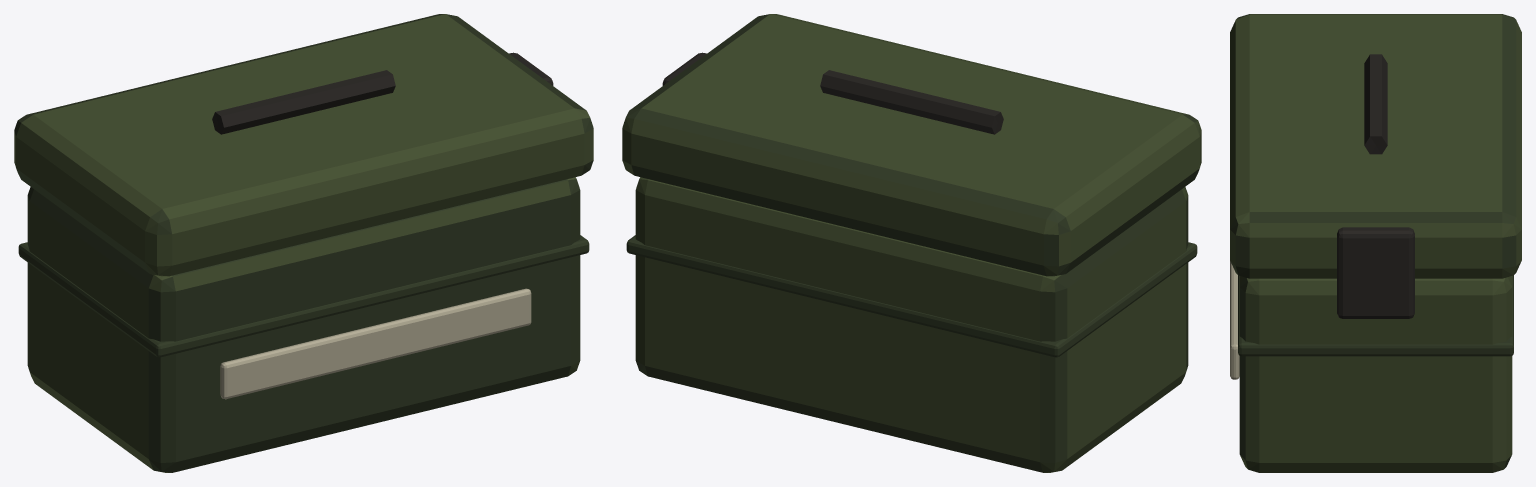
The model's file is ammo-box.glb.
3 renders of one model, left to right at view 1: azimuth 30°, elevation 25°; view 2: azimuth 150°, elevation 25°; view 3: azimuth 270°, elevation 25°, orthographic.
Parts seen in each view (by area): view 1: ammo-box, ammo-box-lid; view 2: ammo-box, ammo-box-lid; view 3: ammo-box-lid, ammo-box.
Part boxes in pixels (box(x1,y1,x2,y2)): ammo-box: box(18, 177, 589, 472); ammo-box-lid: box(14, 14, 593, 276); ammo-box: box(626, 177, 1197, 472); ammo-box-lid: box(622, 14, 1201, 276); ammo-box-lid: box(1230, 14, 1521, 318); ammo-box: box(1230, 261, 1513, 472).
Size of the model in its own units: 0.53 by 0.3204 by 0.3.
